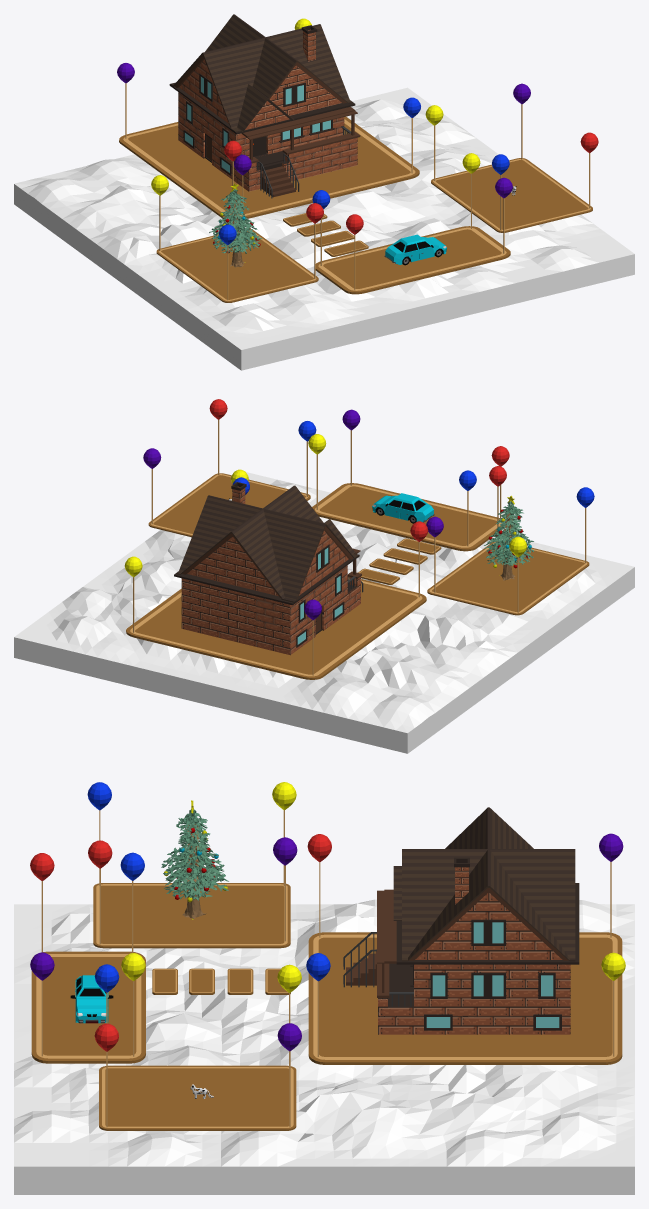
The picture shows the model from 3 angles, top to bottom: view 1: azimuth 30°, elevation 25°; view 2: azimuth 150°, elevation 25°; view 3: azimuth 270°, elevation 25°; orthographic projection. The views are drawn at different scales.
Parts seen in each view (by area): view 1: Cube.013, Cube.469, OBJRANDOM_CHRISTMAS_TREE, VEHICLES_CAR; view 2: Cube.013, Cube.469, OBJRANDOM_CHRISTMAS_TREE, VEHICLES_CAR; view 3: Cube.013, Cube.469, OBJRANDOM_CHRISTMAS_TREE, VEHICLES_CAR.
Part boxes in pixels (<box>): Cube.013: <box>14,18,634,370</box>; Cube.469: <box>169,14,360,198</box>; OBJRANDOM_CHRISTMAS_TREE: <box>209,183,261,267</box>; VEHICLES_CAR: <box>384,234,446,265</box>; Cube.013: <box>14,399,634,753</box>; Cube.469: <box>174,482,363,655</box>; OBJRANDOM_CHRISTMAS_TREE: <box>484,495,534,580</box>; VEHICLES_CAR: <box>372,493,434,523</box>; Cube.013: <box>14,782,634,1194</box>; Cube.469: <box>343,807,579,1034</box>; OBJRANDOM_CHRISTMAS_TREE: <box>161,800,228,919</box>; VEHICLES_CAR: <box>70,975,113,1023</box>.
Bounding box in the file's own units: 4000 × 1688 × 4000.
Materials: 40 (2 with a texture image).
